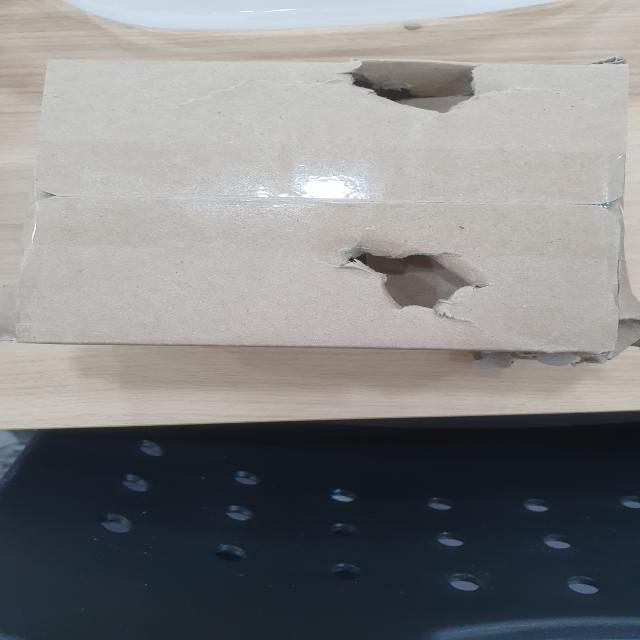hole: (331, 240, 487, 316), (326, 61, 491, 117)
